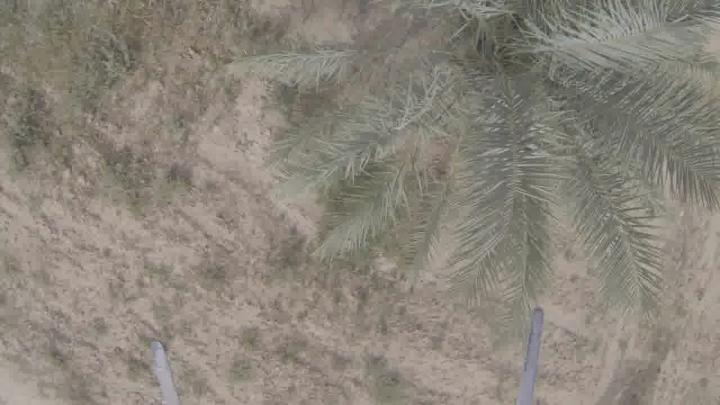Date-Palm-Crown: (380, 0, 690, 200)
